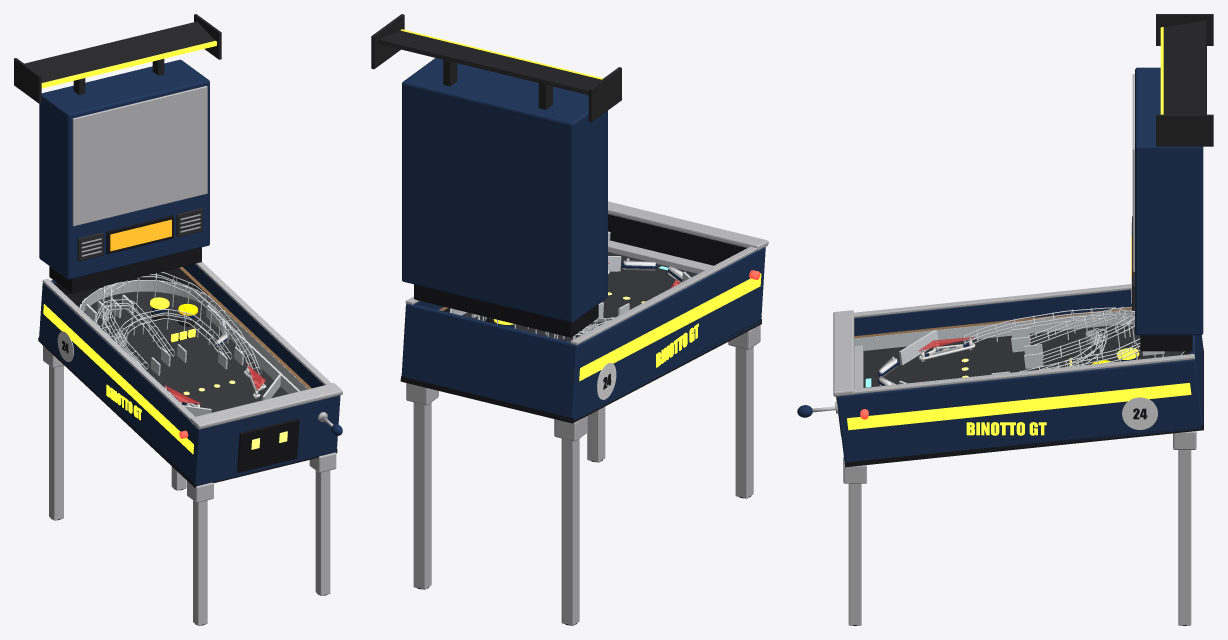
Rendered from binotto-gt.glb.
3 renders of one model, left to right at view 1: azimuth 30°, elevation 25°; view 2: azimuth 150°, elevation 25°; view 3: azimuth 270°, elevation 25°, orthographic. The views are drawn at different scales.
Visible parts, largest first — view 1: flipper_mobile, display; view 2: flipper_mobile; view 3: flipper_mobile.
Part boxes in pixels (<box>): flipper_mobile: <box>14,14,342,625</box>; display: <box>110,219,171,251</box>; flipper_mobile: <box>371,14,768,625</box>; flipper_mobile: <box>833,14,1213,625</box>.
Bounding box in the file's own units: 1 × 2.41 × 1.73.
